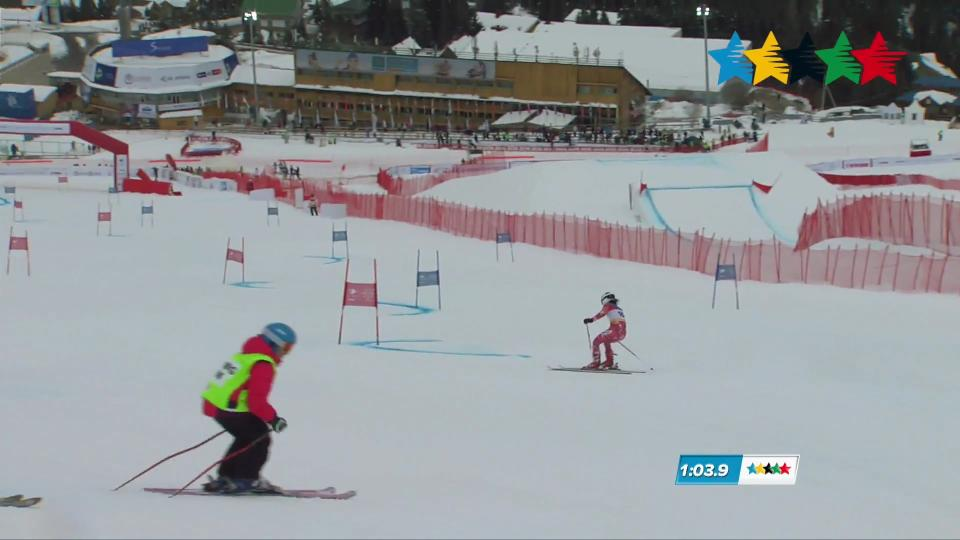gate: (365, 250, 391, 345), (333, 257, 356, 353)
